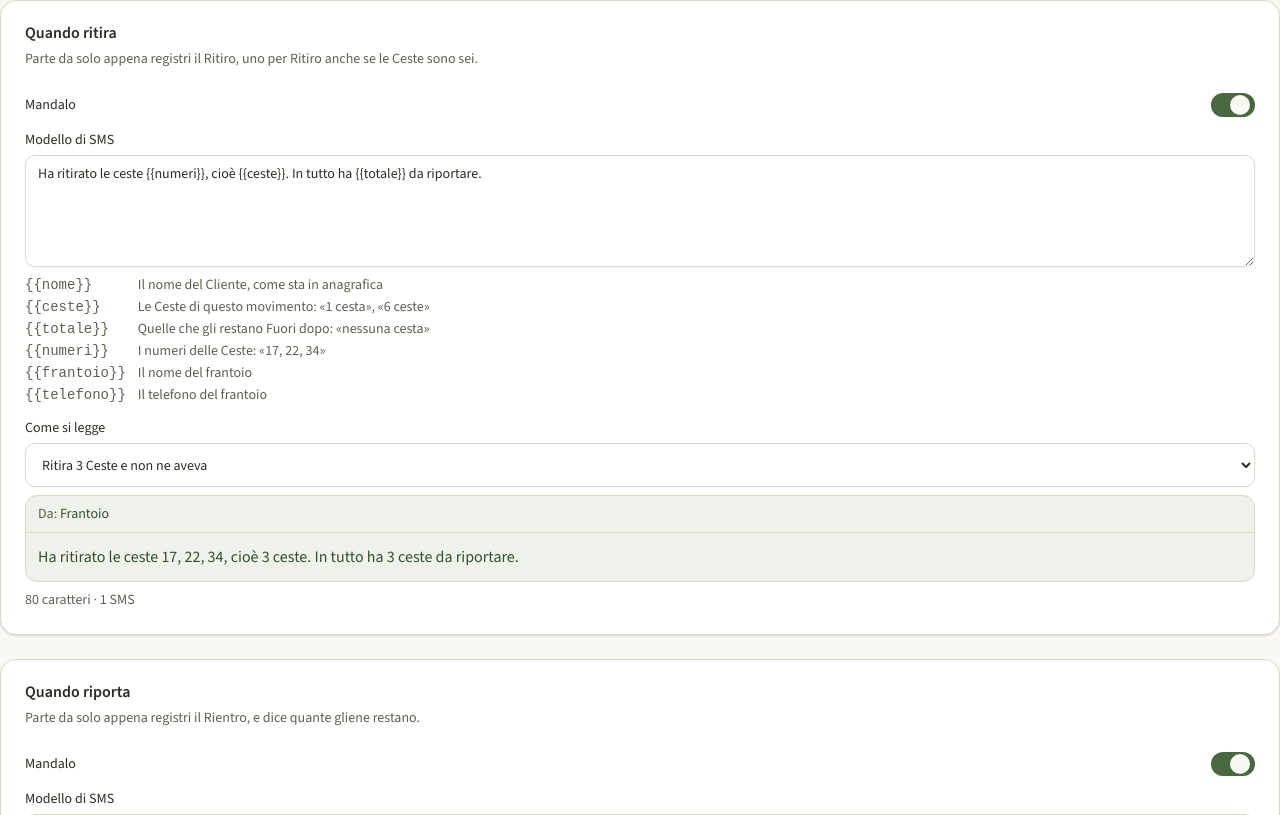
Test: a Ritiro on top of Ceste already out shows the two counts apart
Select "Ritira 4 Ceste, ne aveva già 2" in the dropdown labelled "Come si legge" at (640, 465), box [25, 443, 1255, 487]
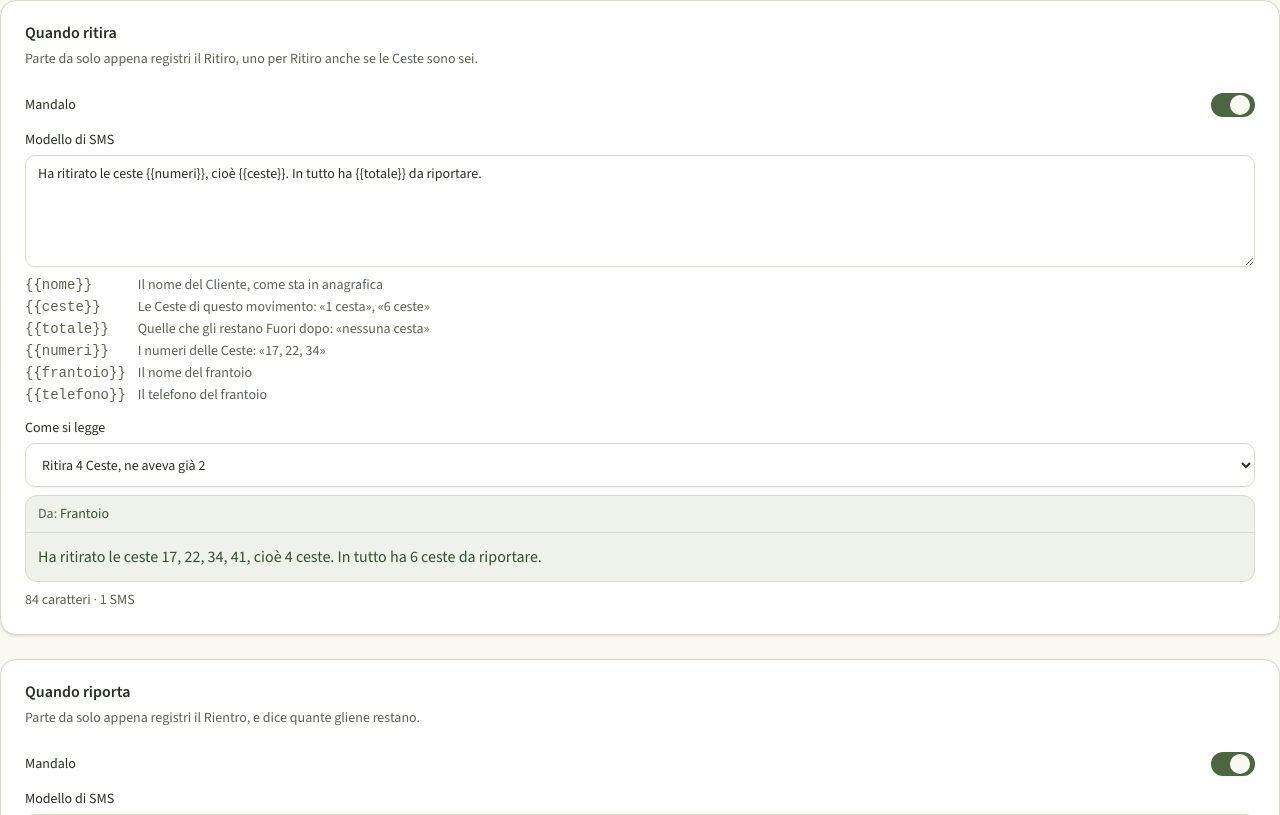
Expected: the text with class "whitespace-pre-wrap" shows "Ha ritirato le ceste 17, 22, 34, 41, cioè 4 ceste. In tutto ha 6 ceste da riportare.", [38, 546, 542, 567]
